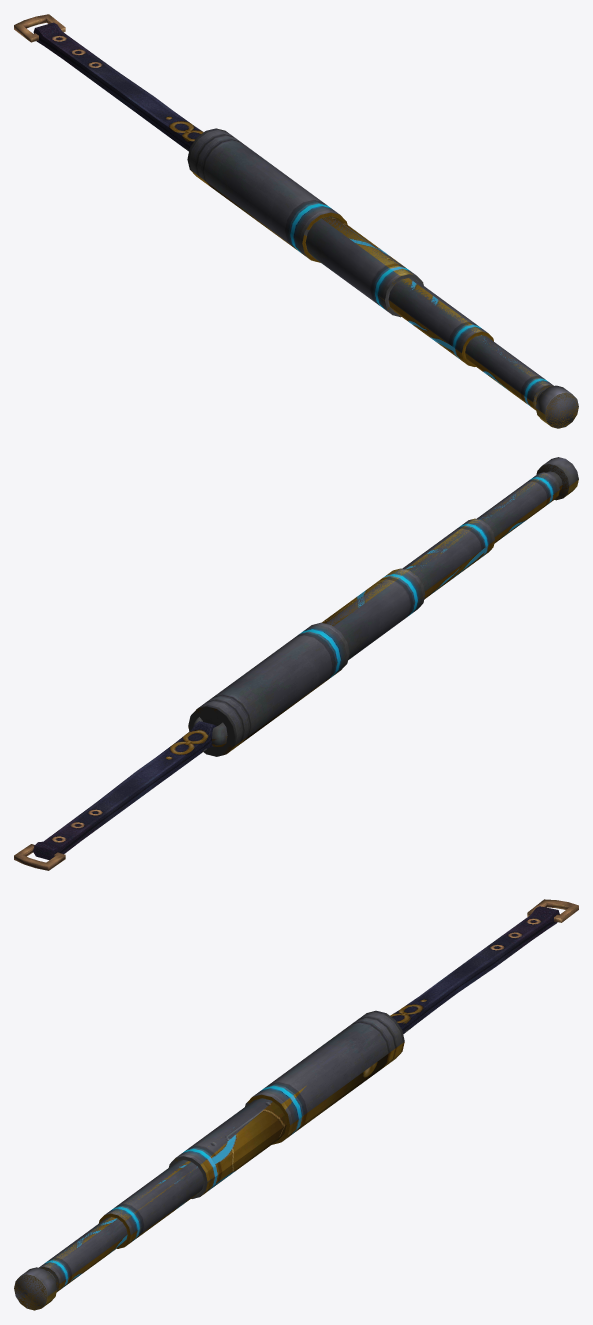
File: Model005_weapons.glb
3 views of the same model, one above another, from view 1: azimuth 30°, elevation 25°; view 2: azimuth 150°, elevation 25°; view 3: azimuth 330°, elevation 25° (orthographic).
Visible parts, largest first — view 1: 0034_Model005_6_+dongzhuo-weaponcloth-2.dongzhuo-weaponcloth, 0033_Model005_6_+dongzhuo-weaponcloth-2.dongzhuo-weaponcloth, 0035_Model005_6_+dongzhuo-weaponmetal-2.dongzhuo-weaponmetal; view 2: 0034_Model005_6_+dongzhuo-weaponcloth-2.dongzhuo-weaponcloth, 0033_Model005_6_+dongzhuo-weaponcloth-2.dongzhuo-weaponcloth, 0035_Model005_6_+dongzhuo-weaponmetal-2.dongzhuo-weaponmetal; view 3: 0034_Model005_6_+dongzhuo-weaponcloth-2.dongzhuo-weaponcloth, 0035_Model005_6_+dongzhuo-weaponmetal-2.dongzhuo-weaponmetal, 0033_Model005_6_+dongzhuo-weaponcloth-2.dongzhuo-weaponcloth.
Part boxes in pixels (<box>): 0034_Model005_6_+dongzhuo-weaponcloth-2.dongzhuo-weaponcloth: <box>14,14,578,428</box>; 0033_Model005_6_+dongzhuo-weaponcloth-2.dongzhuo-weaponcloth: <box>33,22,203,151</box>; 0035_Model005_6_+dongzhuo-weaponmetal-2.dongzhuo-weaponmetal: <box>26,14,578,428</box>; 0034_Model005_6_+dongzhuo-weaponcloth-2.dongzhuo-weaponcloth: <box>14,457,578,870</box>; 0033_Model005_6_+dongzhuo-weaponcloth-2.dongzhuo-weaponcloth: <box>33,721,216,860</box>; 0035_Model005_6_+dongzhuo-weaponmetal-2.dongzhuo-weaponmetal: <box>14,464,578,867</box>; 0034_Model005_6_+dongzhuo-weaponcloth-2.dongzhuo-weaponcloth: <box>14,899,578,1309</box>; 0035_Model005_6_+dongzhuo-weaponmetal-2.dongzhuo-weaponmetal: <box>14,900,578,1310</box>; 0033_Model005_6_+dongzhuo-weaponcloth-2.dongzhuo-weaponcloth: <box>390,906,559,1033</box>.
Size of the model in its own units: 0.1031 by 0.1005 by 2.02.
Materials: 3 (3 with a texture image).
